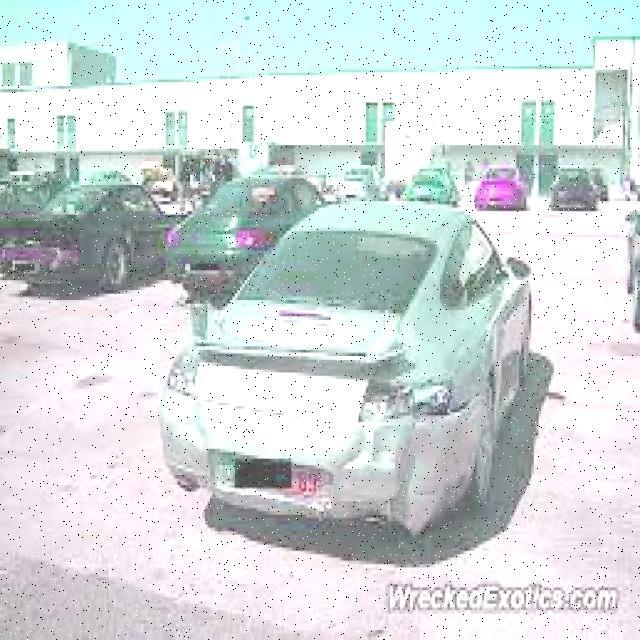car damage: (172, 333, 455, 537)
